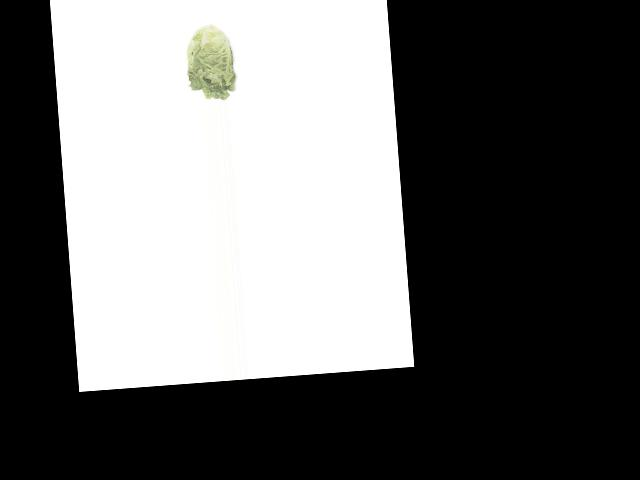lettuce: (179, 22, 240, 101)
